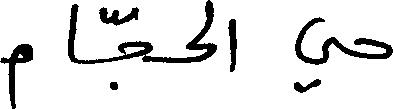X: (295, 12, 332, 97), (0, 39, 32, 108), (118, 2, 151, 66), (187, 0, 216, 67), (356, 33, 392, 63), (67, 0, 77, 67), (229, 14, 236, 76)
